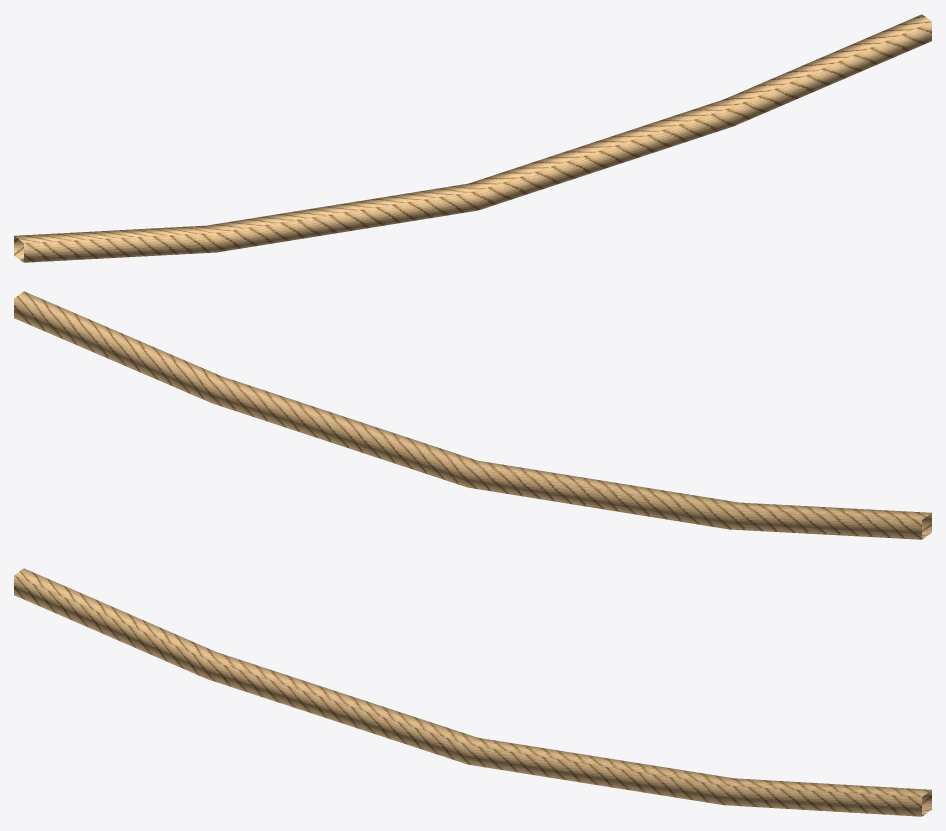
File: RopeSingle.fbx
The picture shows the model from 3 angles, top to bottom: view 1: azimuth 30°, elevation 25°; view 2: azimuth 150°, elevation 25°; view 3: azimuth 330°, elevation 25°; orthographic projection.
Parts seen in each view (by area): view 1: polySurface1211; view 2: polySurface1211; view 3: polySurface1211.
Boxes of the visible parts, left/top/right/bottom form: polySurface1211: left=14, top=14, right=931, bottom=262; polySurface1211: left=14, top=291, right=931, bottom=539; polySurface1211: left=14, top=568, right=931, bottom=816.
Size of the model in its own units: 31.89 by 2.63 by 0.6016.
